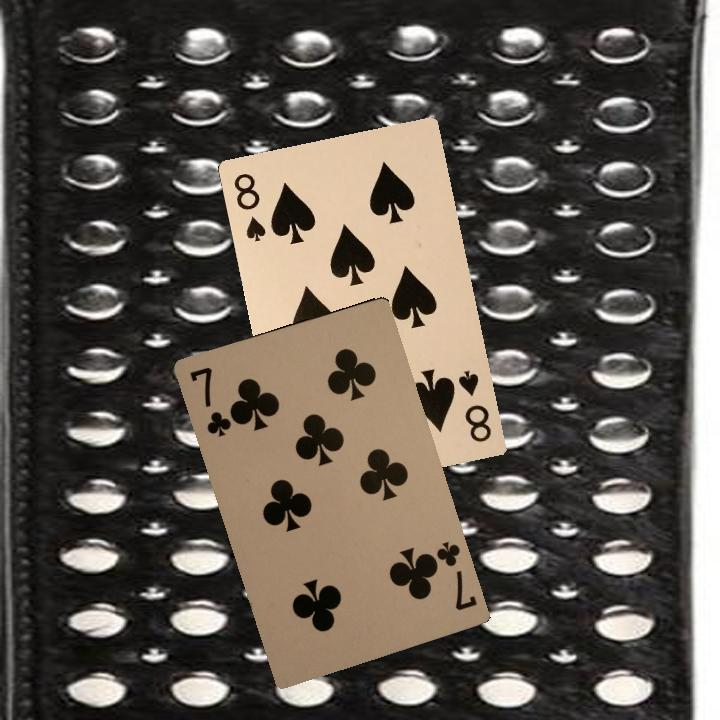7c: (424, 537, 480, 614), (185, 362, 235, 440)
8s: (454, 366, 494, 445), (229, 169, 268, 244)
